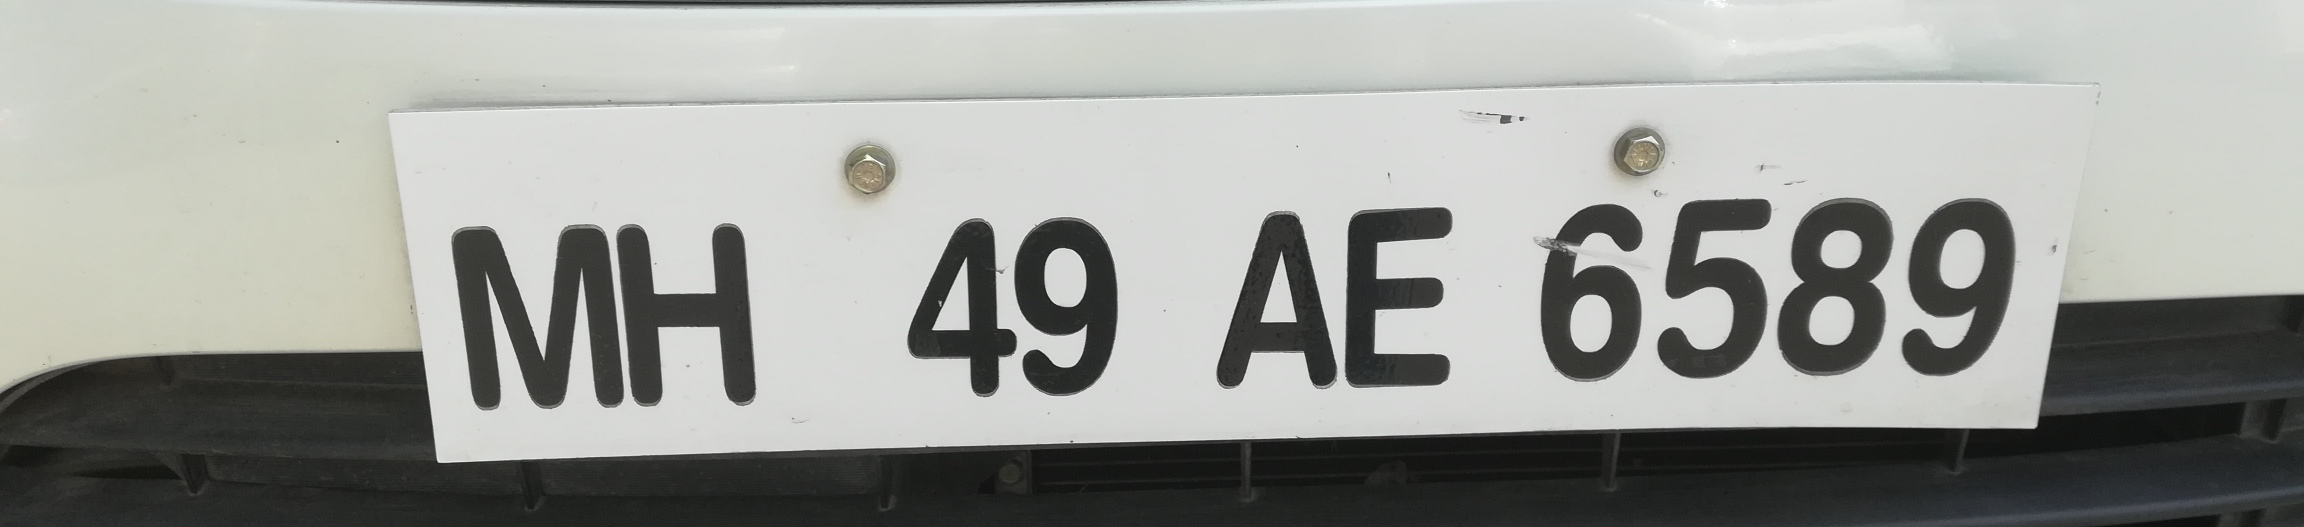numberplate: (384, 72, 2097, 472)
